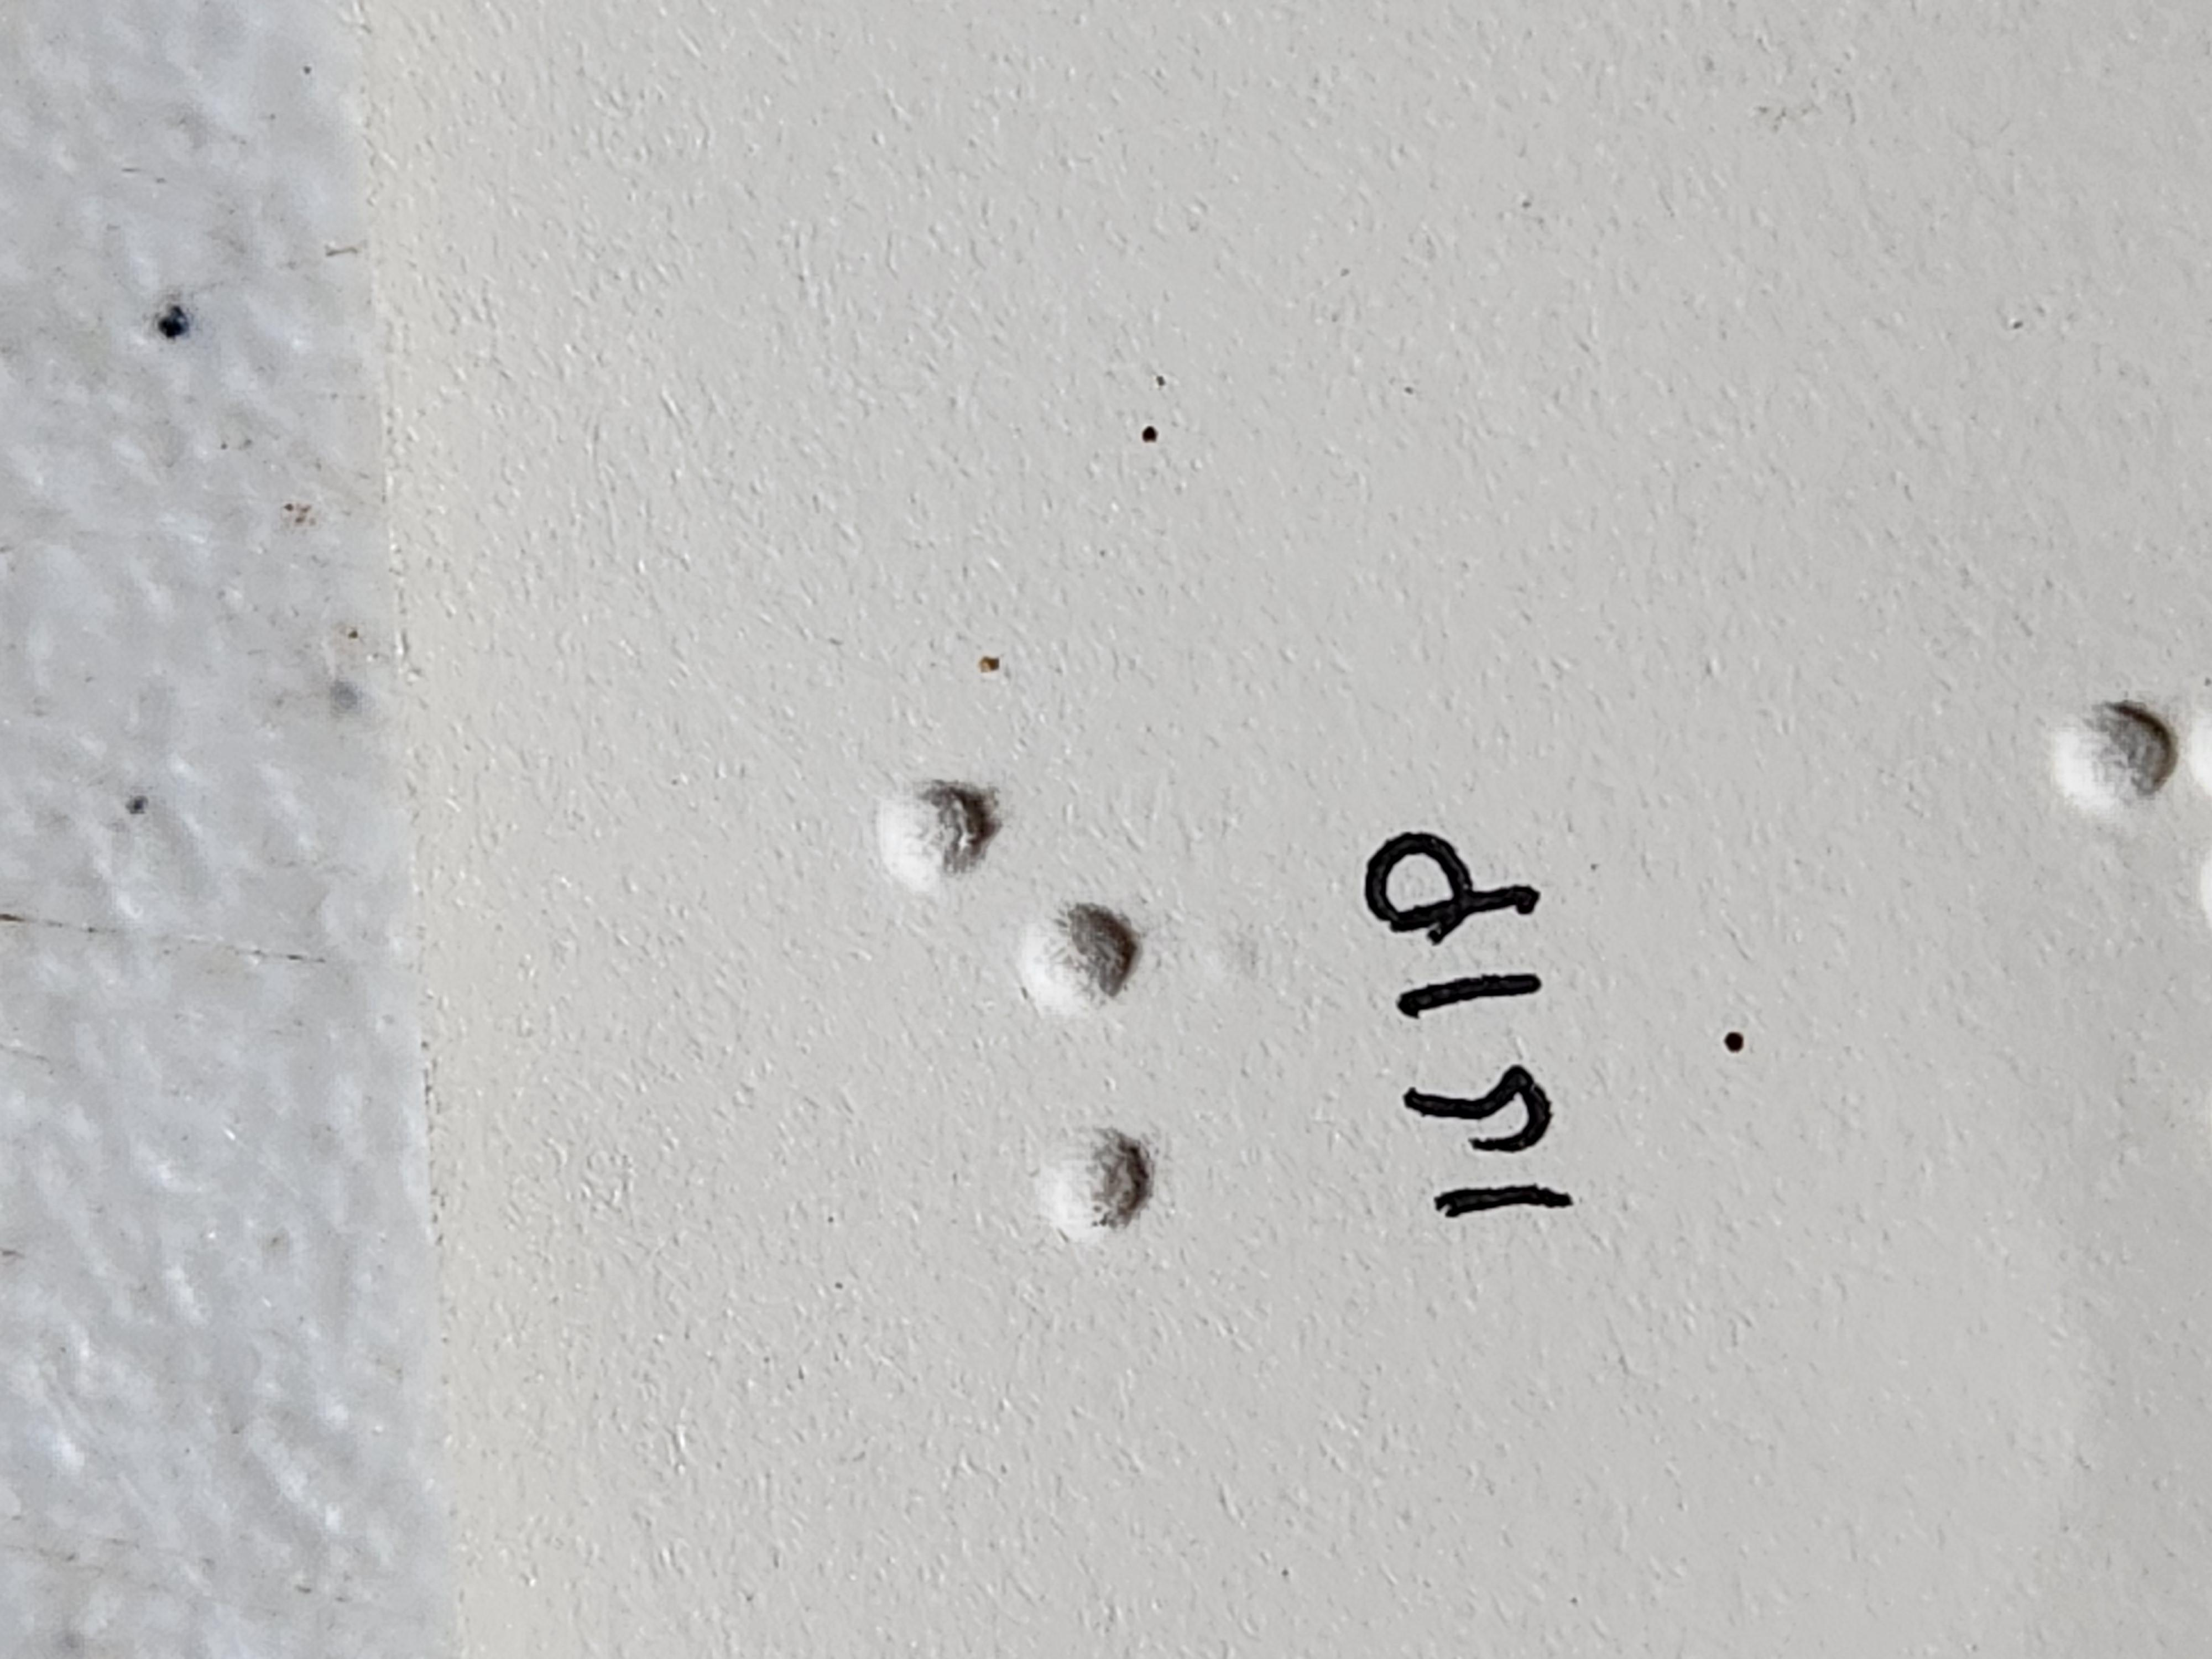dot_5: (385, 655, 709, 974)
two_cell_alphabet_isip: (857, 648, 1181, 967)
